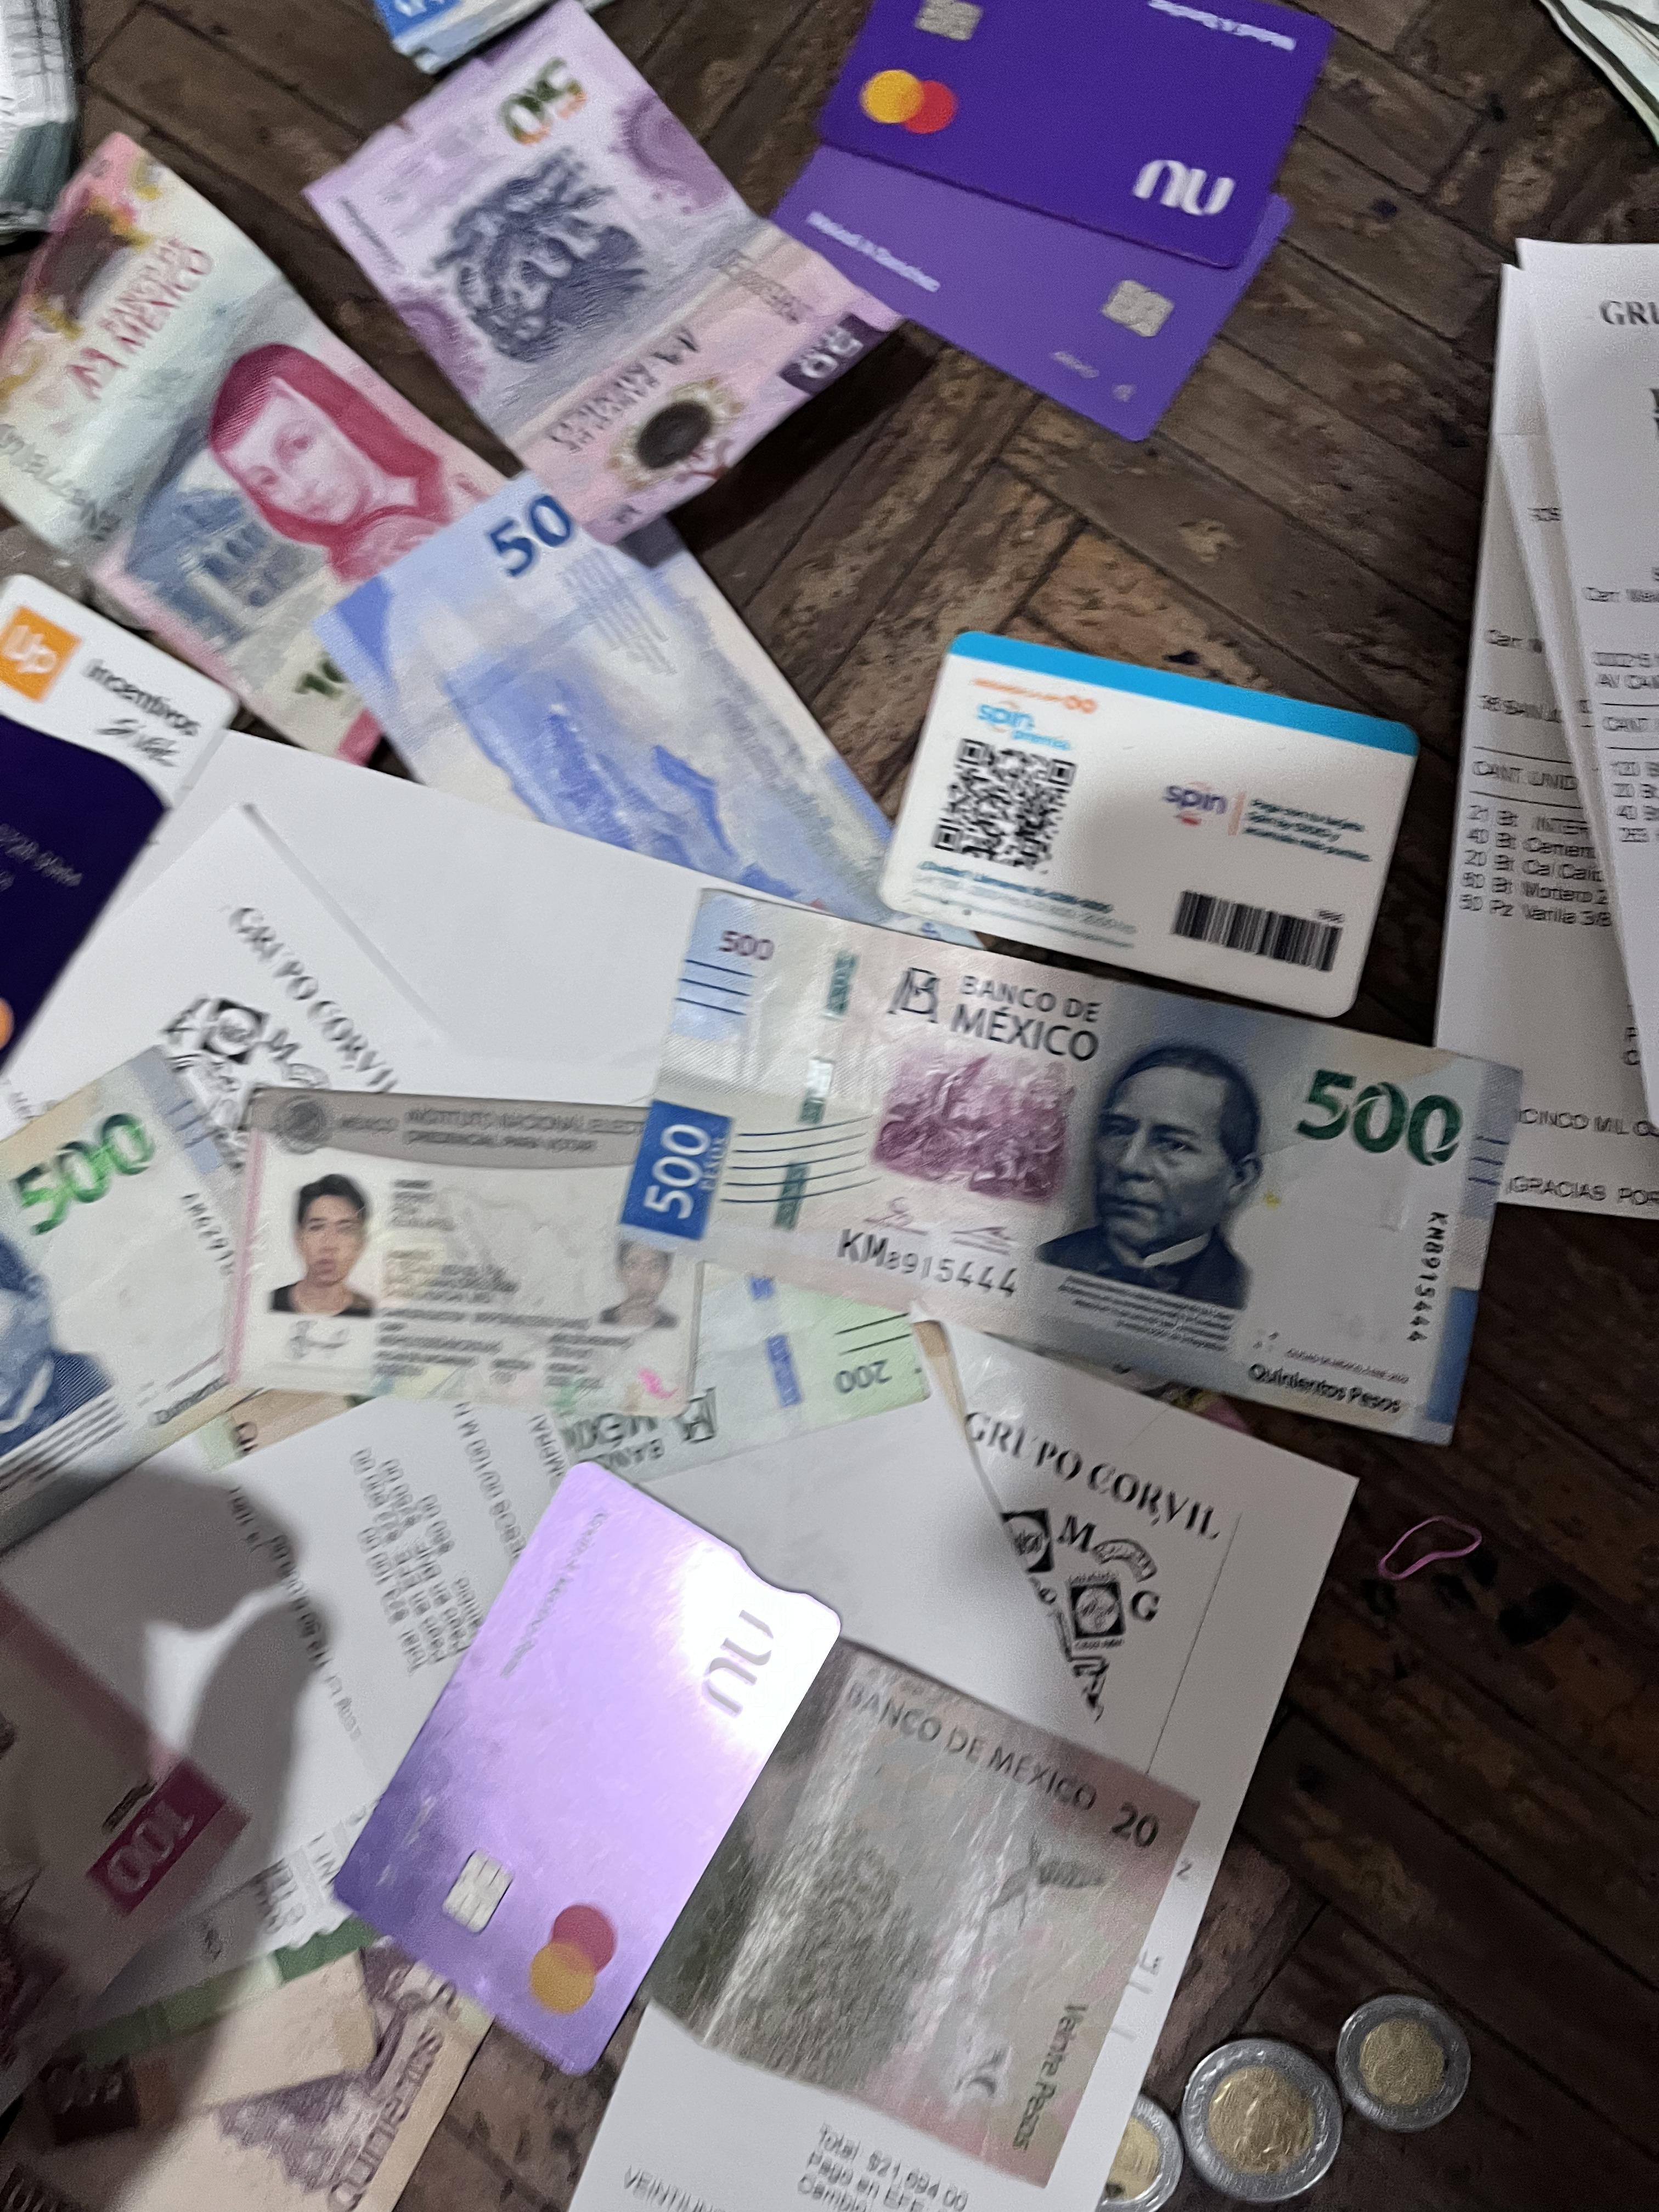1: (1309, 1991, 1490, 2148)
100: (0, 132, 563, 820), (0, 1561, 268, 2168)
20: (552, 1653, 1239, 2177)
200: (460, 1258, 957, 1474)
5: (1155, 2029, 1347, 2189)
50: (291, 5, 932, 557)
500 nuevo: (584, 862, 1558, 1480), (291, 423, 1066, 1087), (0, 1061, 382, 1597)
